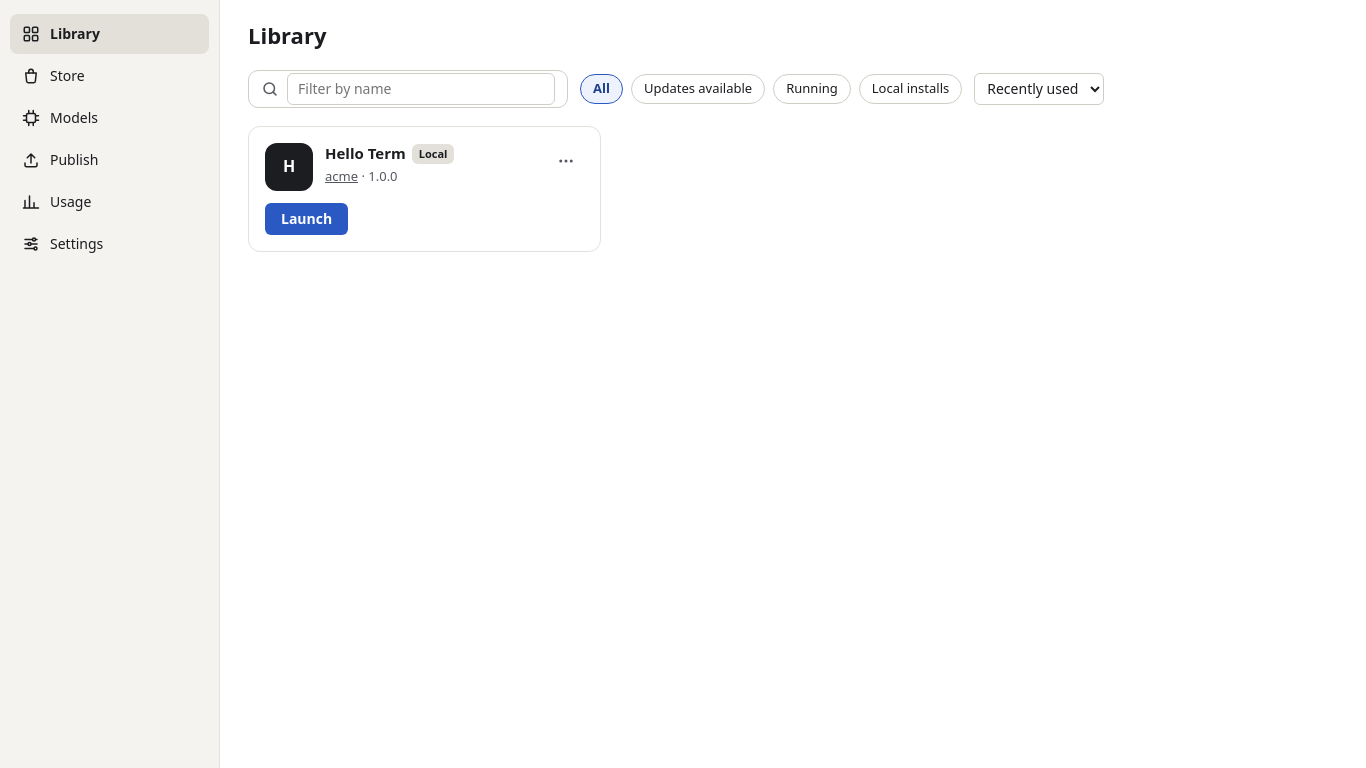
the card menu › a click elsewhere closes it
Click the button named "More actions for Hello Term": (566, 161) [548,143,584,179]
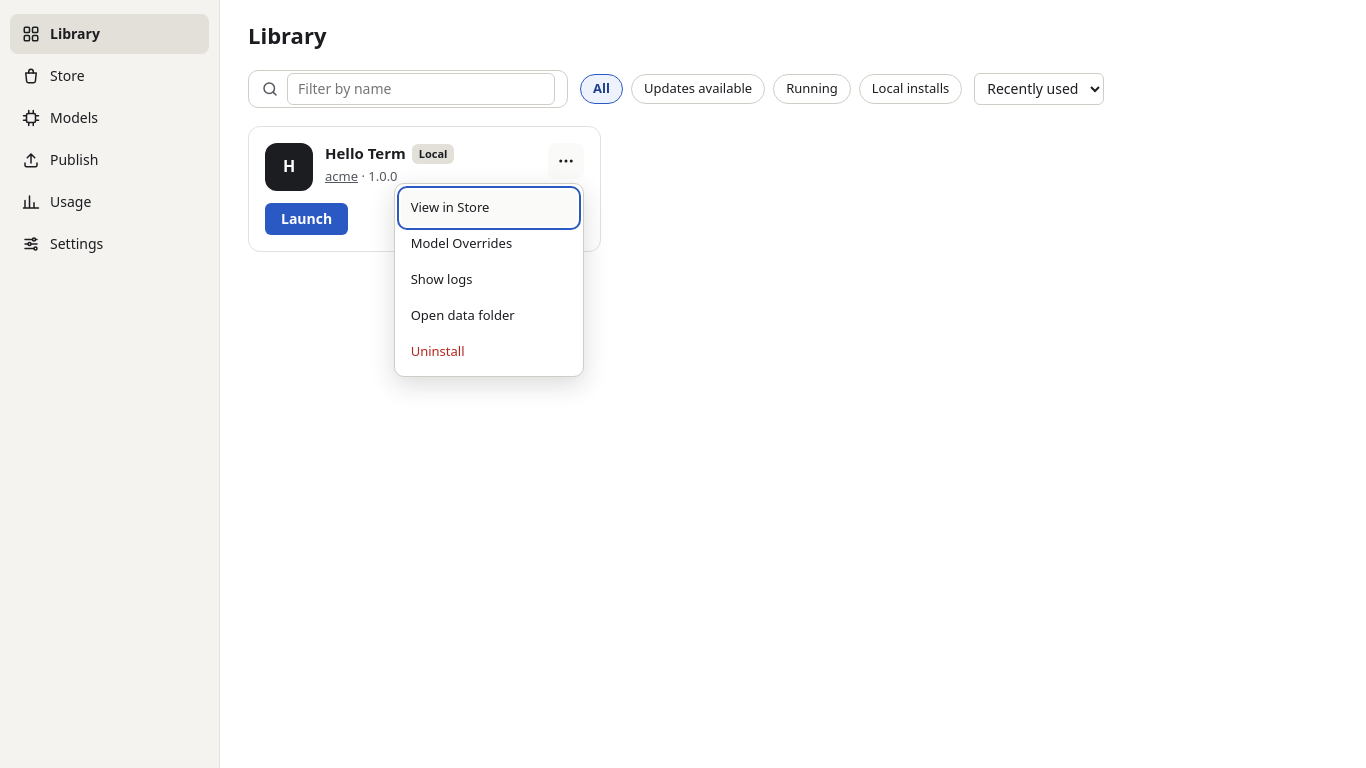
Press the mouse on the element that starts with "Library": (683, 384) [0,0,1365,767]
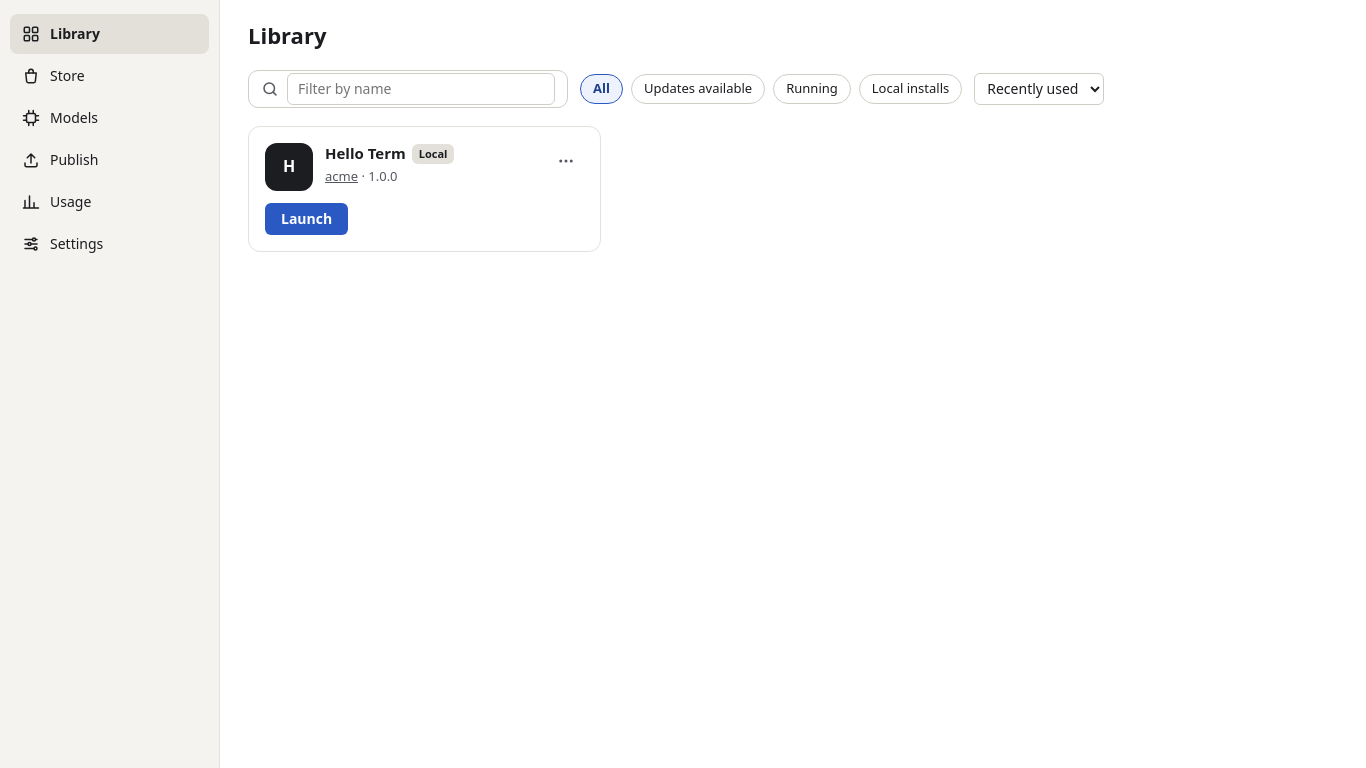
Now the menu is gone
